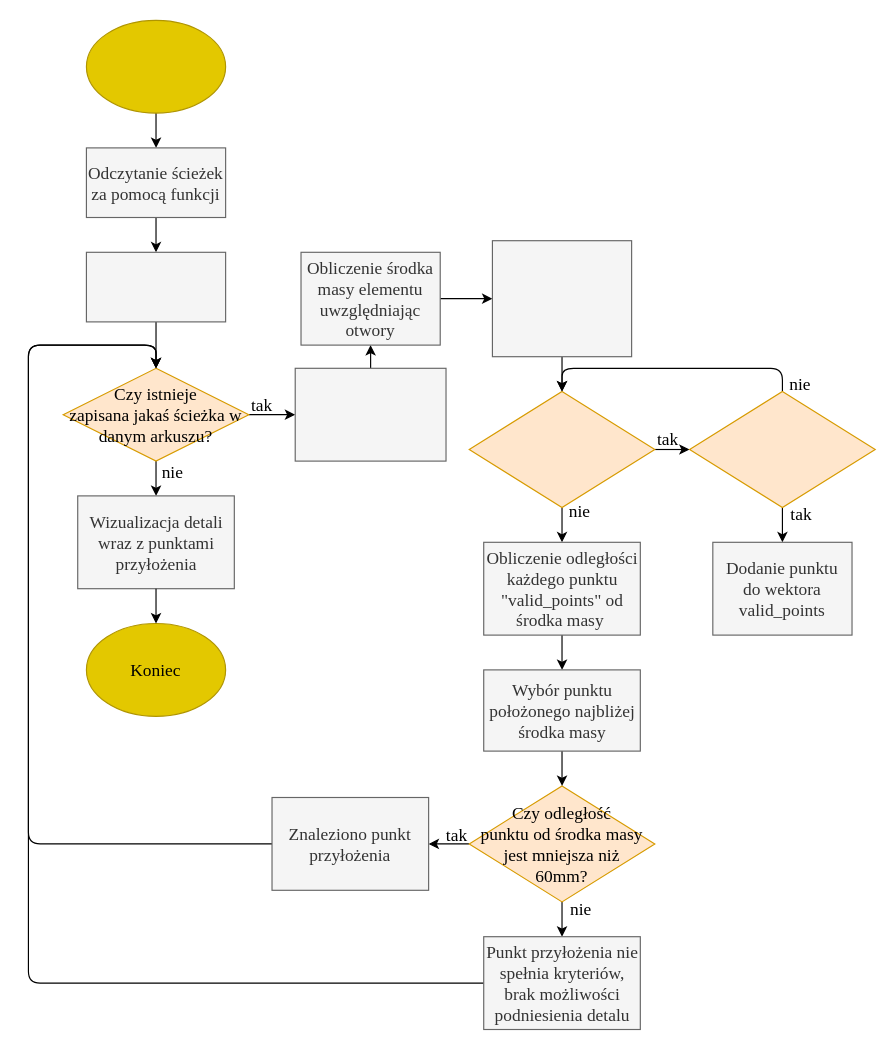
The diagram is 896 pixels wide and 1050 high, and some of its shapes have lost their labels. The shapes that lost their labels are listed below. From the top down, each one's box as (x1, y1, x2, y2) in pixels, then its label:
(85, 19, 226, 113): Start
(85, 251, 226, 322): Inicjalizacja średnicy przyssawki
(491, 240, 632, 357): Utworzenie siatki punktów, będących kandydatami do umiejscowania przyssawki
(294, 367, 446, 461): Określenie głównego kształtu detalu oraz otworów za pomoca funkcji
(468, 390, 655, 507): Czy istnieje jeszcze jakiś kandydat na punkt przyłożenia?
(688, 390, 875, 507): Czy kandydat spełnia wszystkie kryteria?
